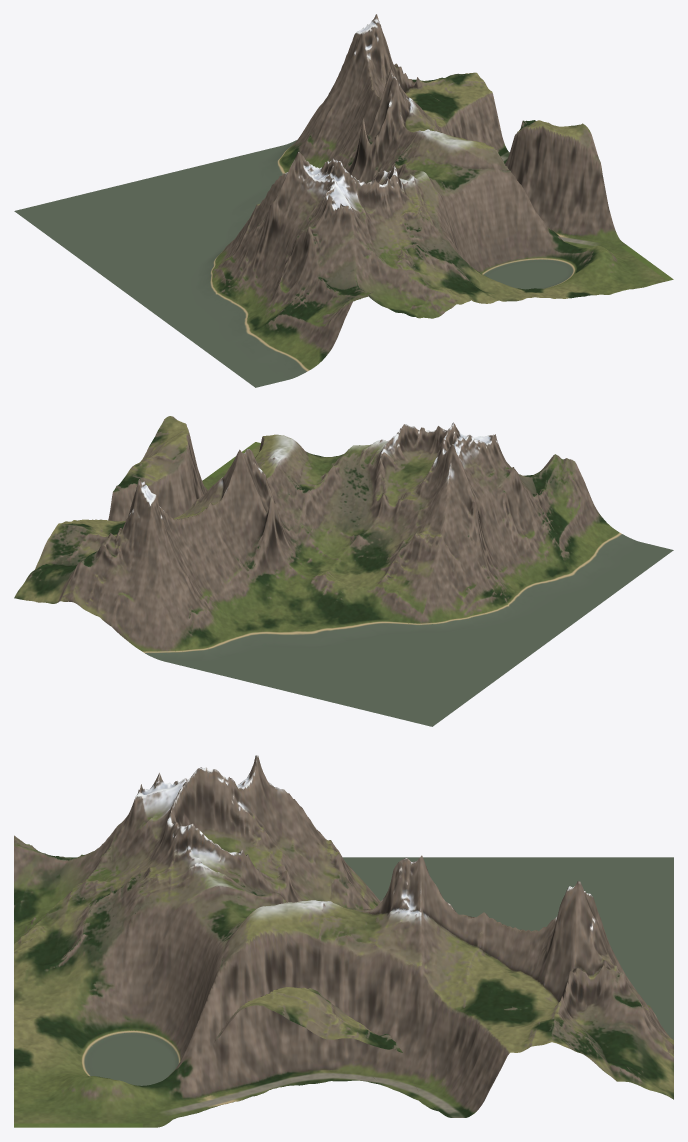
The picture shows the model from 3 angles, top to bottom: view 1: azimuth 30°, elevation 25°; view 2: azimuth 150°, elevation 25°; view 3: azimuth 270°, elevation 25°; orthographic projection. The views are drawn at different scales.
Visible parts, largest first — view 1: Terrain 00; view 2: Terrain 00; view 3: Terrain 00.
Boxes of the visible parts, x1,y1,x2,y2 form: Terrain 00: (14,14,673,387); Terrain 00: (14,416,673,726); Terrain 00: (14,755,673,1127).
Size of the model in its own units: 5000 by 1627 by 5000.
1 material, 1 textured.
